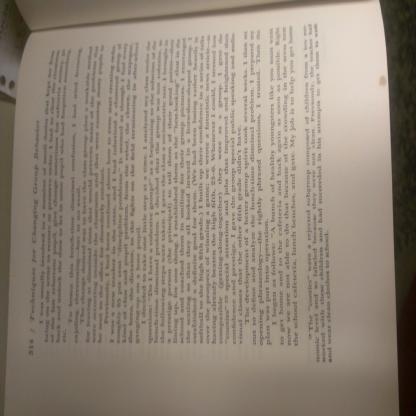book: (5, 0, 396, 416)
